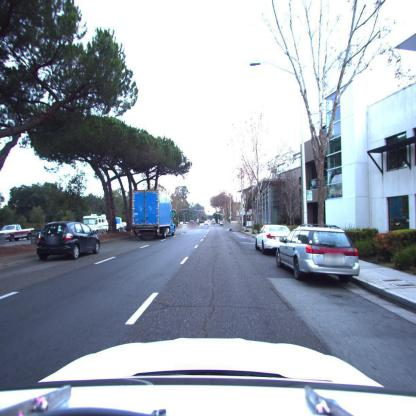car: (275, 226, 362, 283), (35, 221, 102, 262), (256, 224, 289, 256), (0, 225, 34, 243)
truck: (131, 192, 175, 238), (82, 214, 108, 235)
